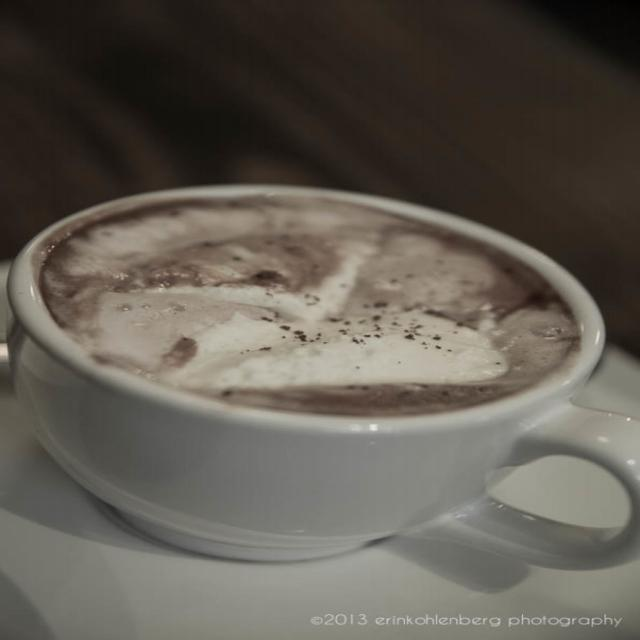Coffee: (37, 190, 577, 424)
